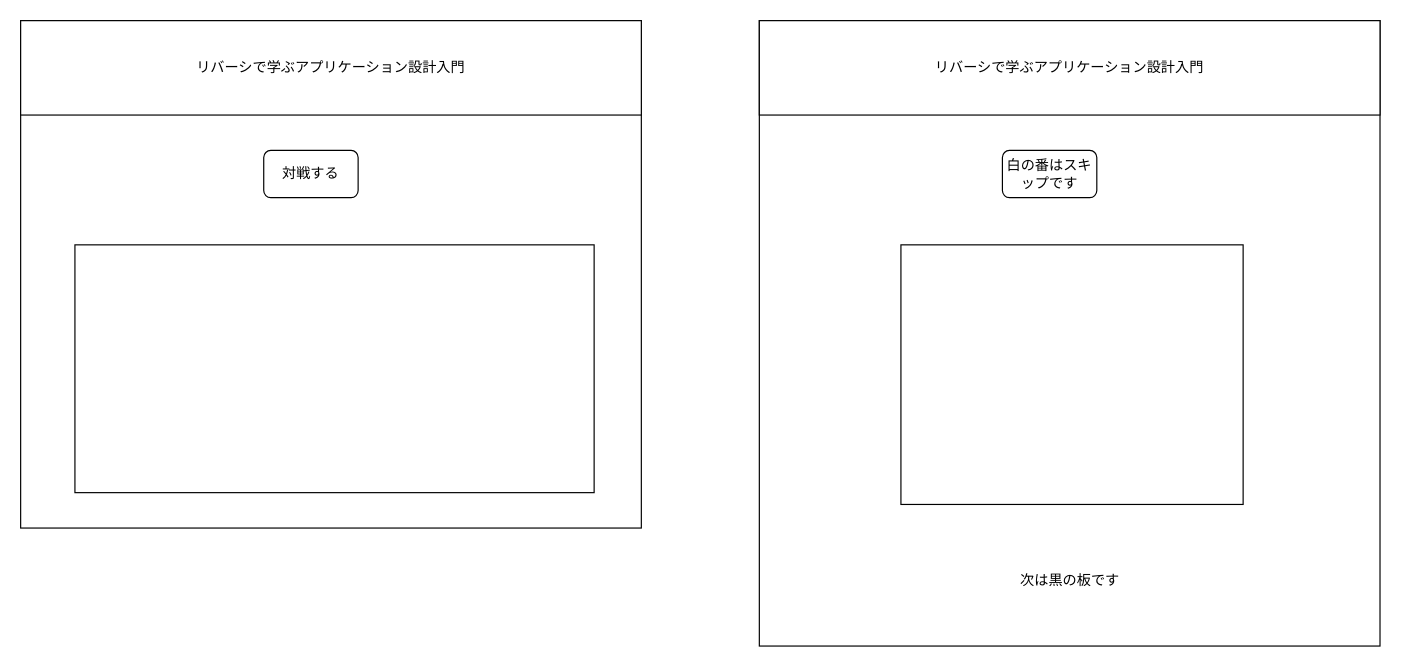
This 1401x667 diagram has some shape labels left out. The shapes that lost their labels are listed below. From the top down, each one's centre as x and y in pixels, then its label:
At [334,368]: "過去の対戦結果".
At [1071,374]: "盤面".
